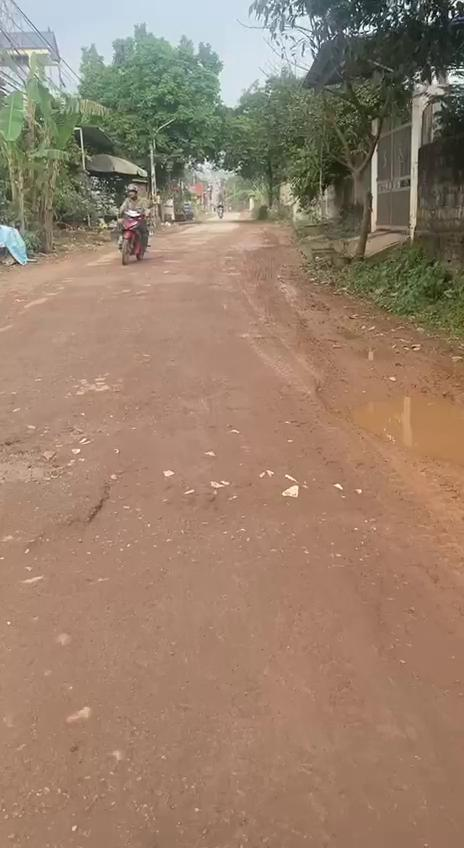pothole: (354, 390, 464, 470), (0, 434, 85, 488)
